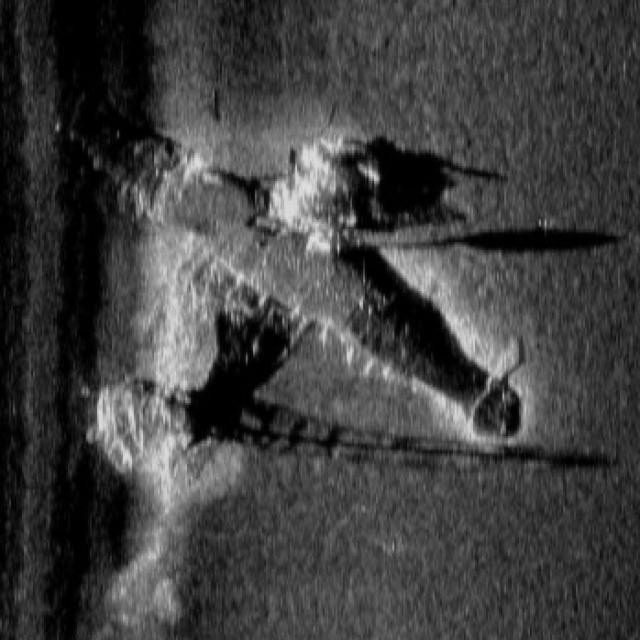plane: (37, 94, 526, 498)
